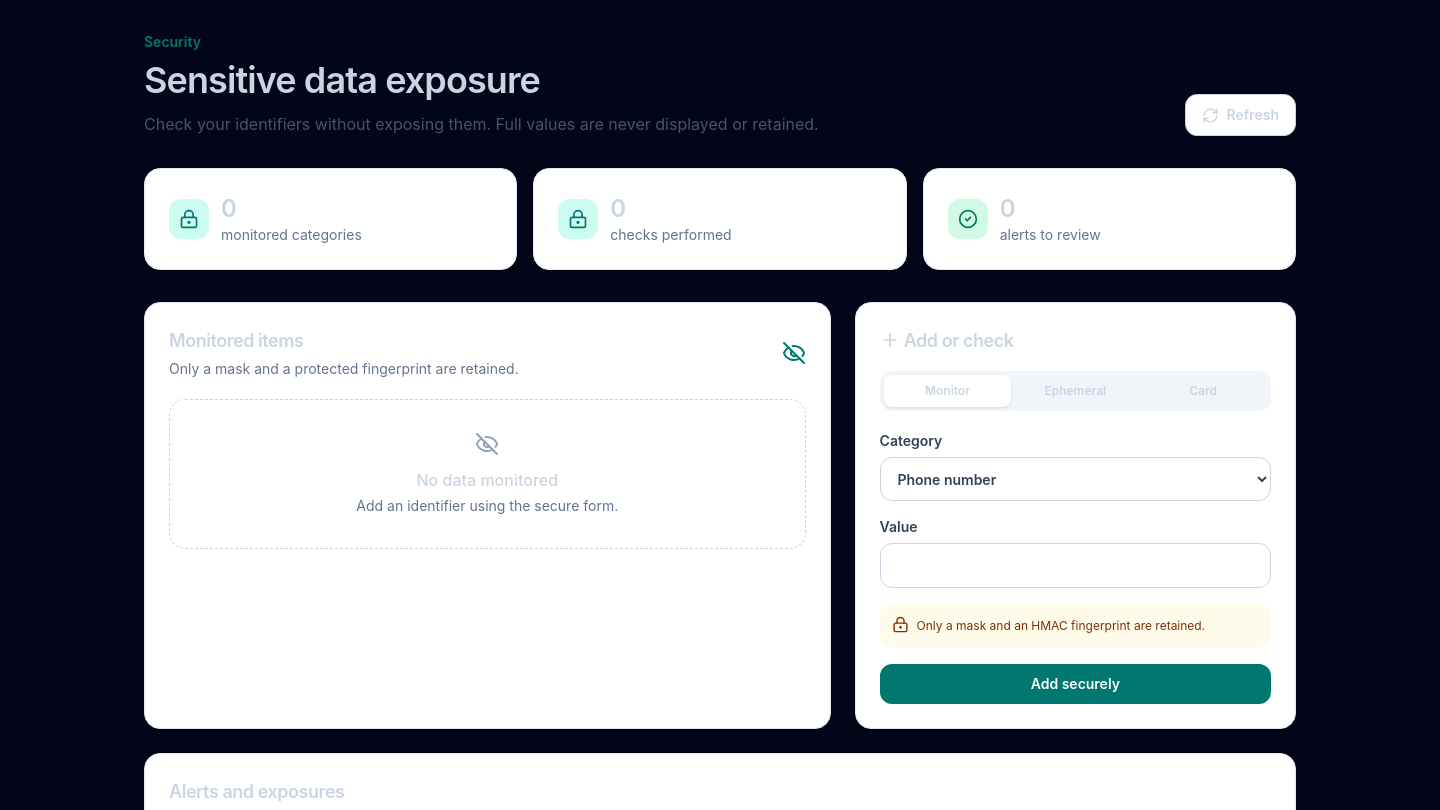
it: SensitiveExposurePage › traduit la page en anglais sans révéler de valeur complète
expect the heading "Sensitive data exposure" is shown: met, box [144, 58, 540, 102]
expect the heading "Monitored items" is shown: met, box [169, 330, 304, 351]
Click the button "Card": (1203, 391) [1139, 375, 1267, 407]
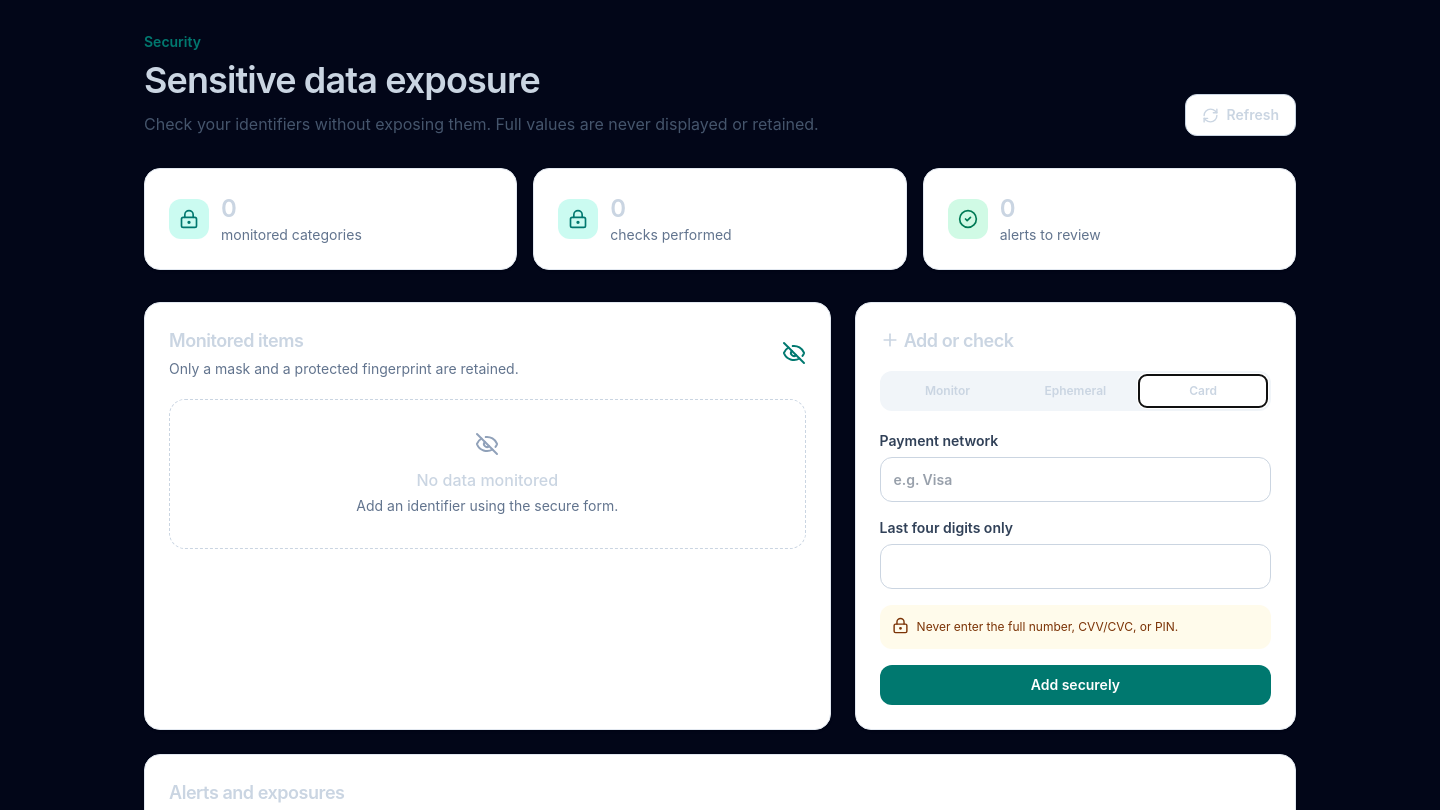
expect the text "Never enter the full number, CVV/CVC, or PIN." is shown: met, box [917, 616, 1178, 636]
